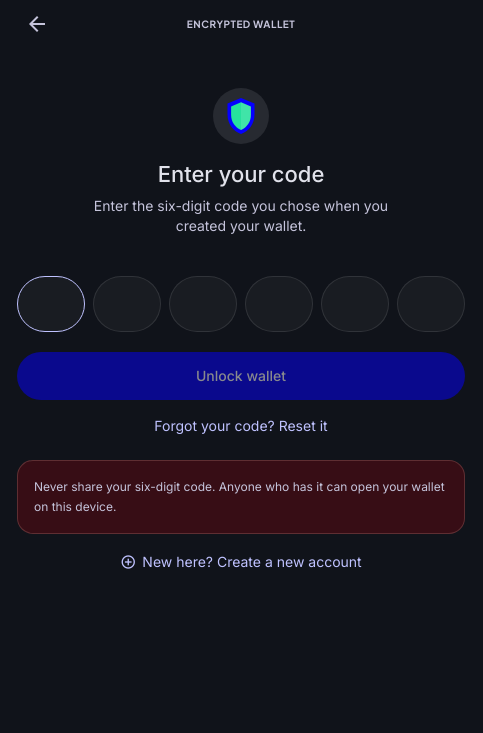
Test: resets the code on the account after confirming the wallet password
Click the button "Forgot your code? Reset it" at (241, 426), box [17,416,465,436]
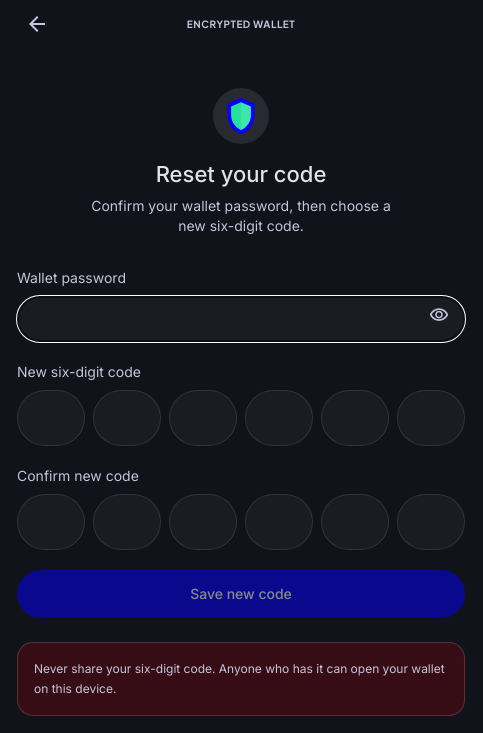
Type "correct horse" into the password field labelled "Wallet password" at (241, 319), box [17,296,465,342]
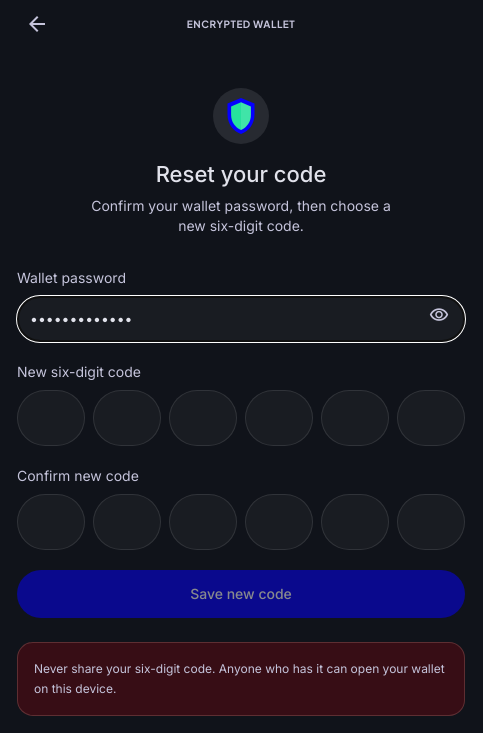
Type "654321" into the password field named "New six-digit code digit 1" at (51, 418), box [17,390,85,446]
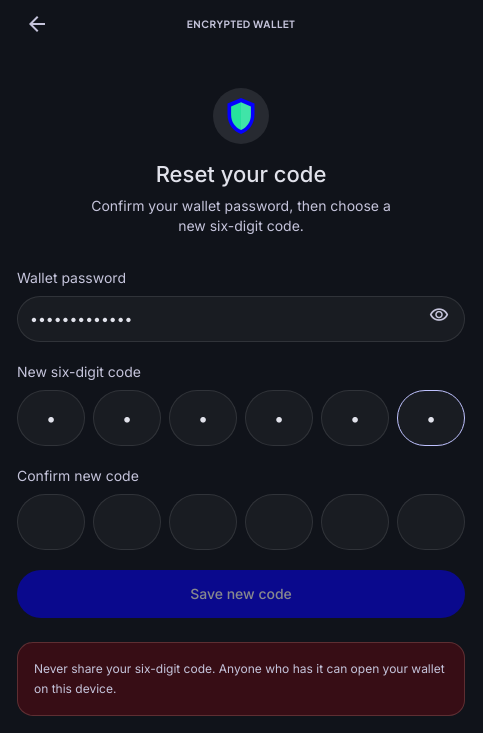
Type "654321" into the password field named "Confirm new six-digit code digit 1" at (51, 522), box [17,494,85,550]
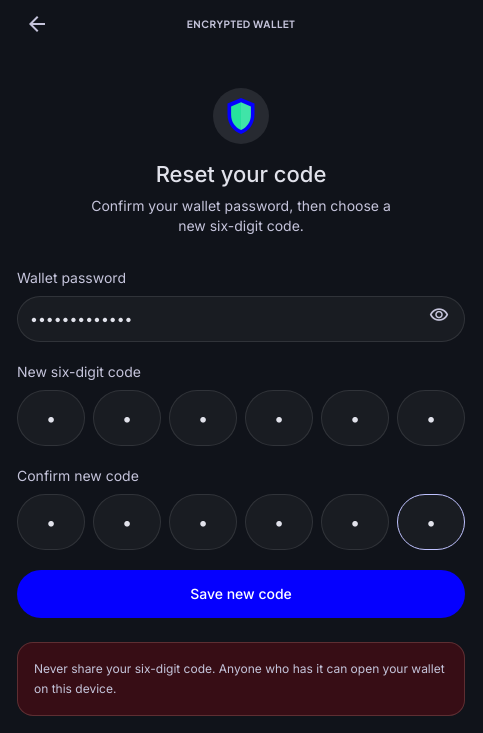
Click the button "Save new code" at (241, 594), box [17,570,465,618]
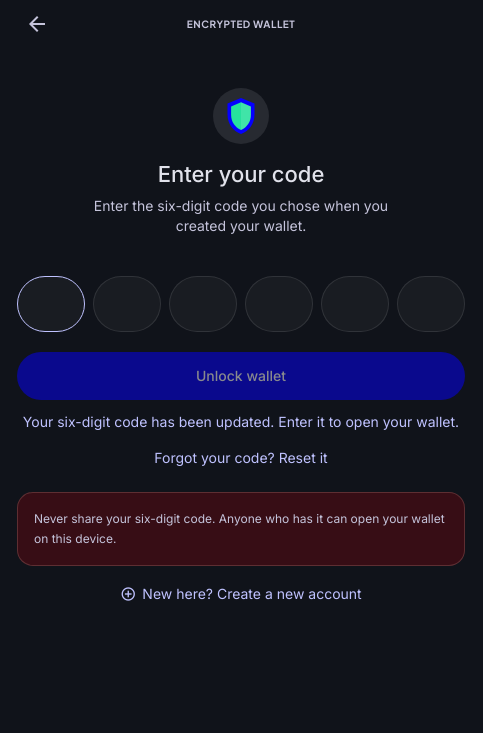
Now the text "has been updated" is shown, box [23,413,459,430]
